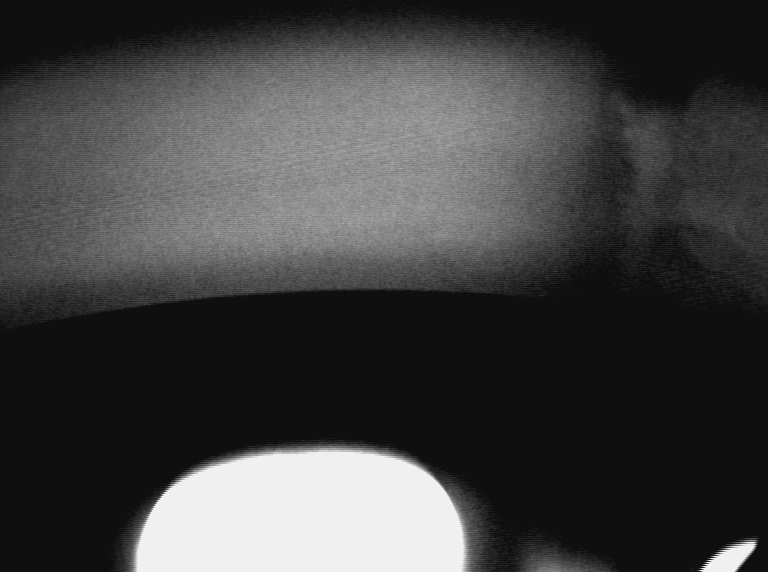defect: (676, 182, 758, 254)
